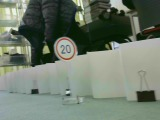speed_20: (53, 35, 78, 62)
